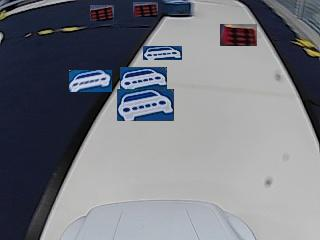prop: (165, 0, 191, 17)
